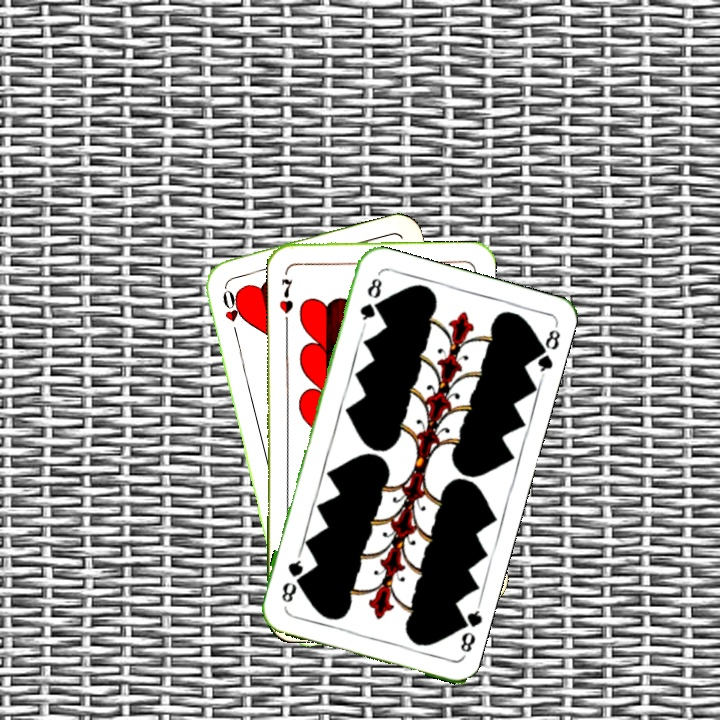G8: (452, 601, 484, 655), (356, 273, 385, 329)
H7: (275, 274, 296, 316)
HO: (218, 282, 242, 341)
